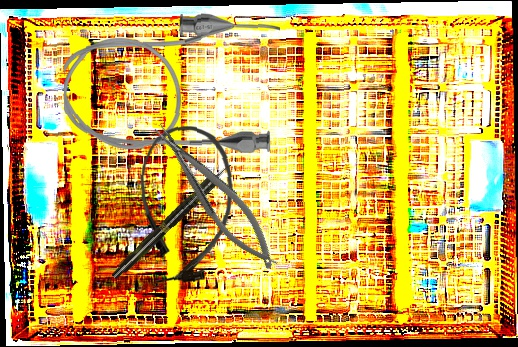Cannula: (62, 12, 283, 157), (134, 123, 237, 286)
Handpiece: (108, 159, 236, 283)
Needle Holder: (147, 112, 286, 279)
